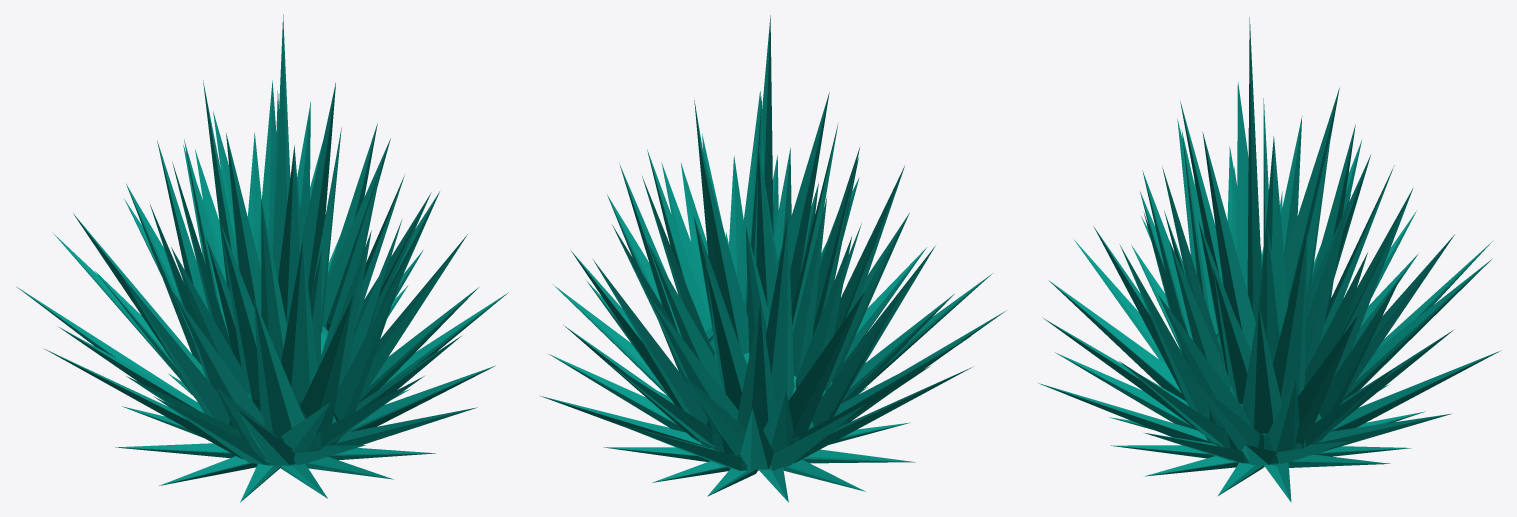
The picture shows the model from 3 angles, left to right: view 1: azimuth 30°, elevation 25°; view 2: azimuth 150°, elevation 25°; view 3: azimuth 270°, elevation 25°; orthographic projection. The views are drawn at different scales.
Visible parts, largest first — view 1: mesh_1808682730, mesh_321949543, mesh_1232985006, mesh_334840783, mesh_1937561181, mesh_1732842745, mesh_1236448184, mesh_818512132, mesh_856046640, mesh_76448869, mesh_697500498, mesh_1370576841 (+48 smaller); view 2: mesh_576003678, mesh_415249786, mesh_1368278764, mesh_1895805210, mesh_1317476708, mesh_697500498, mesh_2141837401, mesh_395278043, mesh_79880729, mesh_1937783385, mesh_1699110549, mesh_818512132 (+44 smaller); view 3: mesh_1863386935, mesh_603349665, mesh_496826606, mesh_1236448184, mesh_79880729, mesh_1940115487, mesh_1937561181, mesh_678734681, mesh_1144192691, mesh_1457567229, mesh_834218464, mesh_334840783 (+46 smaller).
Part boxes in pixels (x1,y1,x2,y2): mesh_1808682730: [281, 239, 317, 412]; mesh_321949543: [253, 298, 301, 442]; mesh_1232985006: [220, 222, 260, 411]; mesh_334840783: [302, 82, 335, 297]; mesh_1937561181: [334, 255, 408, 421]; mesh_1732842745: [300, 297, 352, 433]; mesh_1236448184: [273, 14, 290, 279]; mesh_818512132: [122, 276, 229, 424]; mesh_856046640: [226, 133, 261, 314]; mesh_76448869: [173, 292, 264, 460]; mesh_697500498: [278, 145, 302, 325]; mesh_1370576841: [261, 199, 287, 361]; mesh_576003678: [765, 215, 794, 406]; mesh_415249786: [698, 139, 748, 354]; mesh_1368278764: [788, 292, 864, 445]; mesh_1895805210: [738, 301, 776, 429]; mesh_1317476708: [705, 262, 747, 409]; mesh_697500498: [777, 92, 829, 308]; mesh_2141837401: [593, 260, 714, 449]; mesh_395278043: [792, 196, 827, 377]; mesh_79880729: [756, 145, 778, 314]; mesh_1937783385: [650, 298, 738, 435]; mesh_1699110549: [647, 241, 723, 390]; mesh_818512132: [812, 293, 900, 426]; mesh_1863386935: [1273, 230, 1307, 404]; mesh_603349665: [1242, 306, 1282, 434]; mesh_496826606: [1202, 132, 1255, 348]; mesh_1236448184: [1247, 17, 1261, 322]; mesh_79880729: [1284, 88, 1339, 303]; mesh_1940115487: [1213, 268, 1251, 403]; mesh_1937561181: [1119, 244, 1209, 419]; mesh_678734681: [1158, 294, 1243, 428]; mesh_1144192691: [1295, 315, 1357, 448]; mesh_1457567229: [1048, 280, 1185, 400]; mesh_834218464: [1341, 258, 1492, 403]; mesh_334840783: [1258, 136, 1288, 320].
Bounding box in the file's own units: 158 × 153 × 145.
